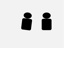human: (20, 11, 32, 31), (40, 11, 52, 31)
